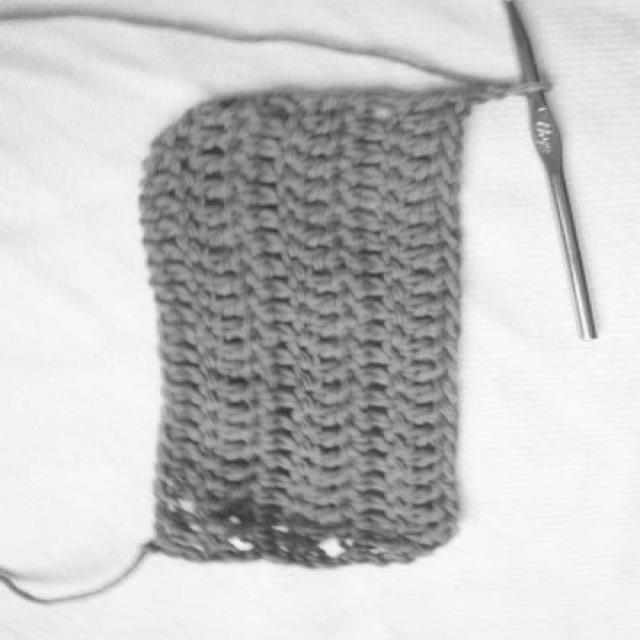ch: (439, 128, 459, 170), (435, 171, 458, 205), (437, 219, 459, 252), (435, 151, 457, 183), (442, 285, 457, 324), (436, 199, 456, 228), (438, 393, 456, 425), (441, 265, 458, 298), (440, 241, 457, 274), (444, 110, 461, 141), (441, 455, 455, 492), (442, 332, 460, 360), (437, 416, 456, 441), (441, 479, 459, 503), (443, 309, 457, 338), (444, 374, 456, 405), (457, 92, 470, 119), (443, 509, 456, 534), (441, 433, 452, 460), (442, 495, 456, 516), (445, 356, 455, 381)
dc: (281, 214, 343, 250), (318, 294, 386, 325), (379, 301, 442, 334), (157, 504, 204, 548), (386, 282, 442, 318), (279, 169, 338, 202), (278, 188, 337, 220), (169, 116, 227, 148), (383, 262, 436, 297), (164, 398, 214, 435), (161, 361, 208, 399), (338, 130, 388, 165), (335, 175, 381, 213), (223, 198, 279, 229), (328, 505, 380, 538), (199, 306, 250, 339), (240, 316, 296, 346), (377, 173, 439, 200), (232, 109, 286, 140), (222, 153, 279, 182), (224, 130, 283, 158), (295, 373, 349, 403), (227, 225, 284, 253), (337, 154, 385, 187), (344, 106, 388, 142), (287, 258, 331, 294), (243, 460, 294, 491), (222, 179, 280, 206), (327, 272, 387, 298), (241, 269, 291, 300), (249, 401, 299, 432), (381, 195, 434, 224), (285, 236, 330, 270), (329, 405, 389, 430), (183, 191, 228, 224), (162, 378, 207, 411), (383, 482, 442, 507), (293, 397, 342, 427), (296, 353, 350, 380), (249, 296, 296, 327), (323, 320, 389, 342), (383, 244, 441, 269), (389, 394, 439, 423), (333, 385, 393, 409), (348, 92, 408, 116), (266, 95, 346, 113), (386, 375, 439, 402), (383, 128, 438, 154), (381, 218, 436, 244), (391, 330, 442, 358), (385, 499, 442, 524), (194, 265, 243, 294), (329, 248, 387, 272), (181, 171, 229, 200), (274, 523, 334, 546), (159, 478, 202, 510), (242, 425, 297, 450), (198, 353, 253, 378), (389, 109, 446, 133), (278, 499, 335, 523), (387, 151, 434, 180), (202, 371, 249, 400), (197, 290, 249, 316), (295, 335, 349, 360), (294, 306, 339, 336), (386, 357, 442, 381), (385, 460, 441, 484), (335, 203, 383, 231), (288, 285, 336, 313), (341, 428, 390, 455), (201, 332, 250, 359), (338, 484, 385, 512), (337, 225, 384, 253), (177, 145, 224, 173), (388, 418, 440, 443), (294, 443, 344, 469), (293, 463, 343, 489), (378, 518, 434, 541), (150, 264, 196, 292), (185, 220, 232, 247), (242, 443, 292, 468), (248, 361, 296, 387), (144, 147, 186, 176), (160, 437, 208, 462), (192, 510, 238, 536), (338, 469, 387, 493), (289, 481, 340, 504), (251, 342, 296, 368), (283, 152, 336, 174), (389, 441, 439, 464), (201, 436, 251, 459), (158, 325, 204, 350), (202, 456, 254, 478), (212, 401, 256, 427), (190, 244, 234, 270), (142, 173, 186, 199), (283, 131, 337, 152), (240, 253, 289, 276), (232, 524, 277, 549), (400, 91, 459, 110), (145, 242, 191, 266), (254, 384, 298, 409), (141, 218, 186, 242), (195, 490, 244, 512), (340, 451, 386, 474), (285, 113, 342, 131), (213, 418, 252, 444), (158, 344, 202, 367), (138, 195, 186, 216), (244, 500, 287, 523), (347, 339, 388, 363), (226, 509, 277, 528), (161, 461, 205, 483), (300, 424, 342, 447), (155, 284, 197, 307), (156, 305, 202, 326), (162, 419, 204, 442), (348, 363, 391, 385), (247, 482, 290, 504), (185, 102, 227, 124), (203, 478, 245, 498)
